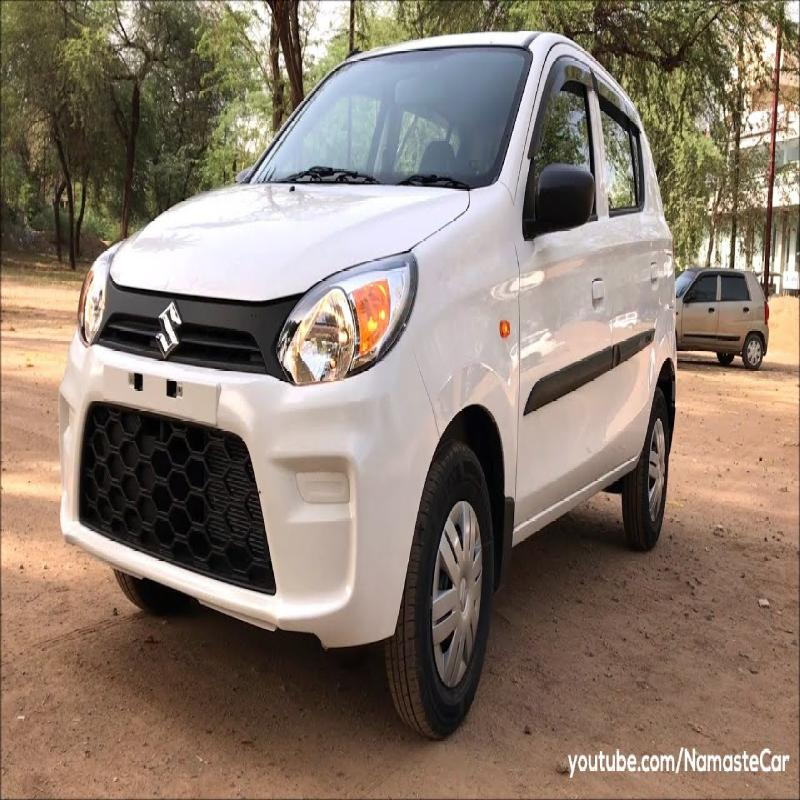car: (55, 14, 679, 673)
